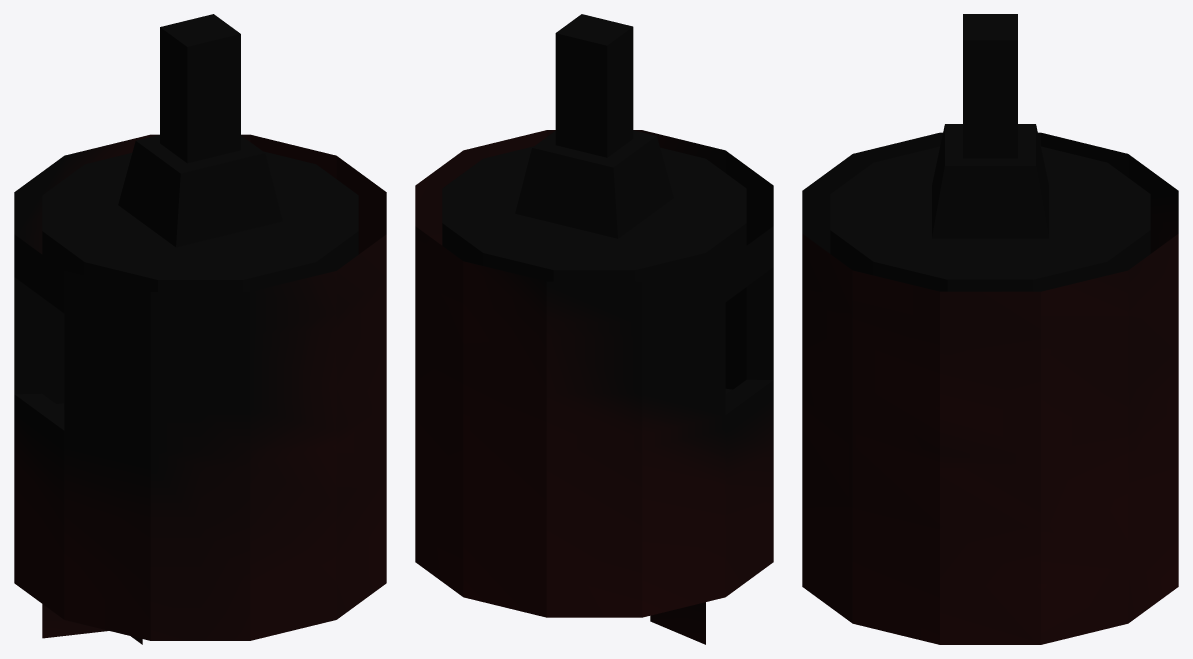
The model's file is CaveTower.obj.
The picture shows the model from 3 angles, left to right: view 1: azimuth 30°, elevation 25°; view 2: azimuth 150°, elevation 25°; view 3: azimuth 270°, elevation 25°; orthographic projection. The views are drawn at different scales.
Visible parts, largest first — view 1: CaveTower; view 2: CaveTower; view 3: CaveTower.
Part boxes in pixels (left/top/right/bottom): CaveTower: left=14, top=14, right=386, bottom=644; CaveTower: left=415, top=14, right=773, bottom=644; CaveTower: left=802, top=14, right=1178, bottom=644.
Bounding box in the file's own units: 5.8 × 10.14 × 5.8.
